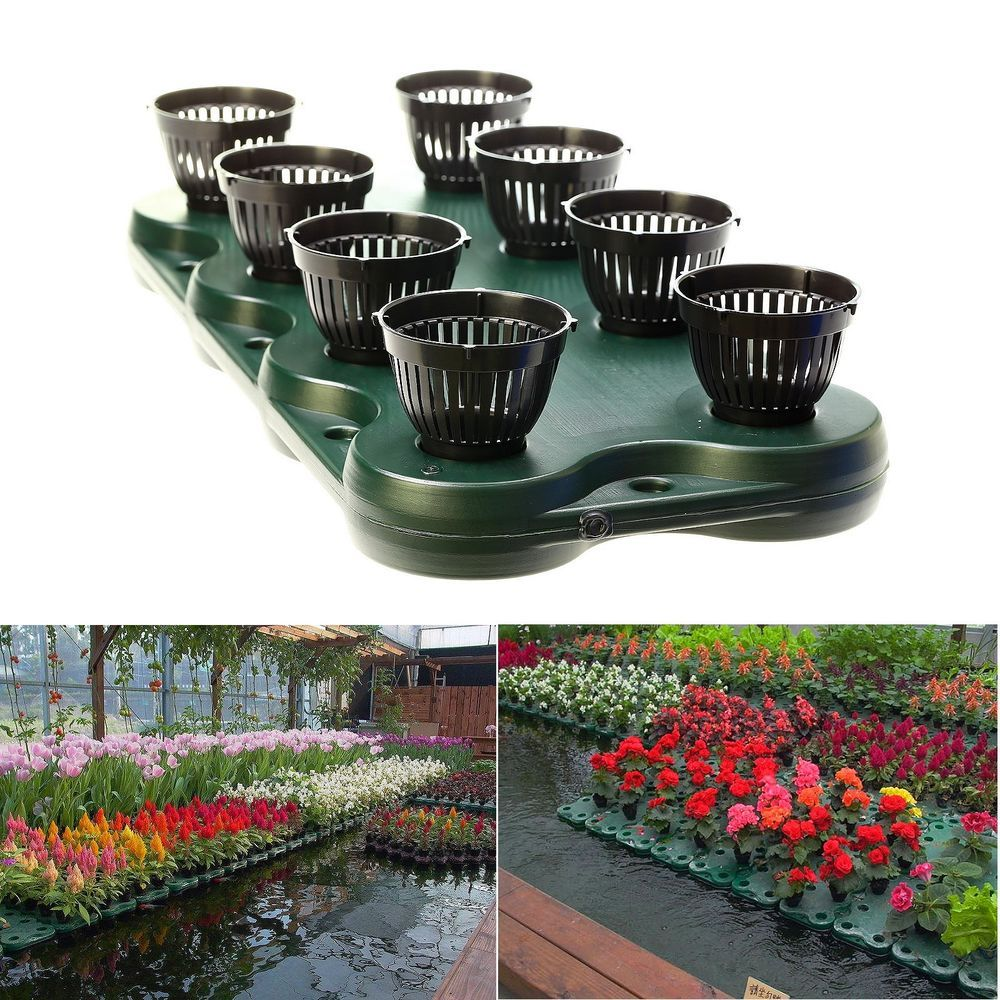basket: (669, 259, 878, 447), (368, 285, 588, 461), (548, 178, 743, 346), (463, 122, 650, 278), (272, 215, 461, 343), (390, 72, 546, 204), (206, 147, 379, 266), (152, 85, 292, 207)
